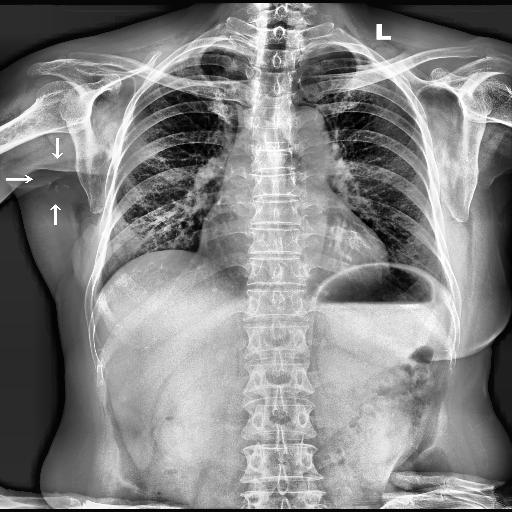0- Aortic enlargement: (274, 104, 328, 158), (280, 106, 332, 145)
11- Pleural thickening: (169, 44, 248, 64), (164, 44, 242, 62)
3- Cardiomegaly: (201, 214, 388, 280), (196, 227, 390, 273)
8- Nodule-Mass: (112, 242, 126, 258)
9- Other lesion: (42, 172, 72, 198)
